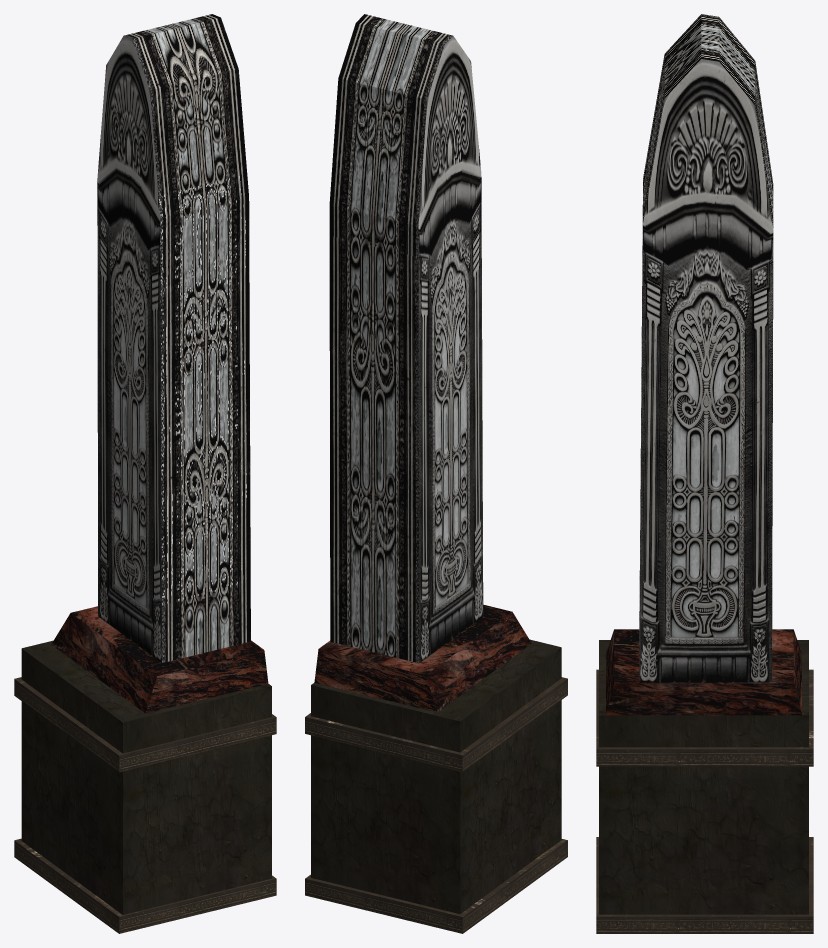
File: WallOrnament.fbx
3 renders of one model, left to right at view 1: azimuth 30°, elevation 25°; view 2: azimuth 150°, elevation 25°; view 3: azimuth 270°, elevation 25°, orthographic. The views are drawn at different scales.
Visible parts, largest first — view 1: Mesh1; view 2: Mesh1; view 3: Mesh1.
Boxes of the visible parts, left/top/right/bottom form: Mesh1: left=14, top=14, right=276, bottom=933; Mesh1: left=305, top=14, right=567, bottom=933; Mesh1: left=596, top=14, right=813, bottom=933.
Size of the model in its own units: 1.7 by 8.69 by 1.96.
